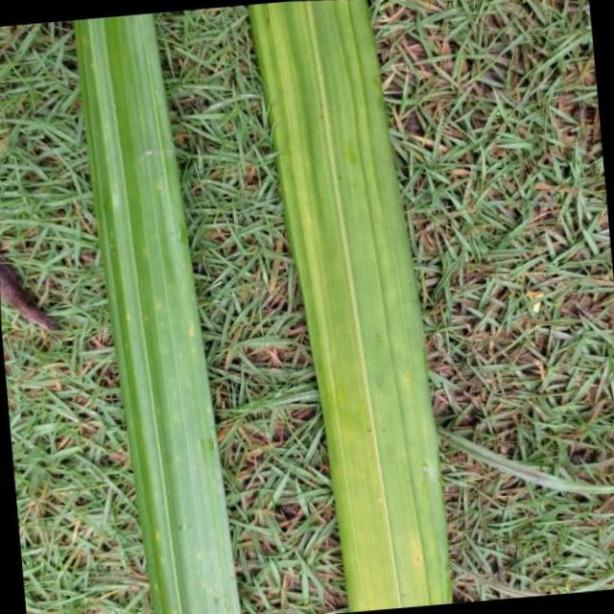nitrogen: (255, 0, 450, 614), (69, 16, 241, 614)
